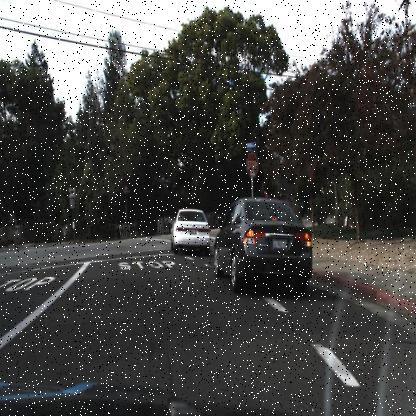car: (208, 194, 314, 297), (167, 202, 212, 260)
